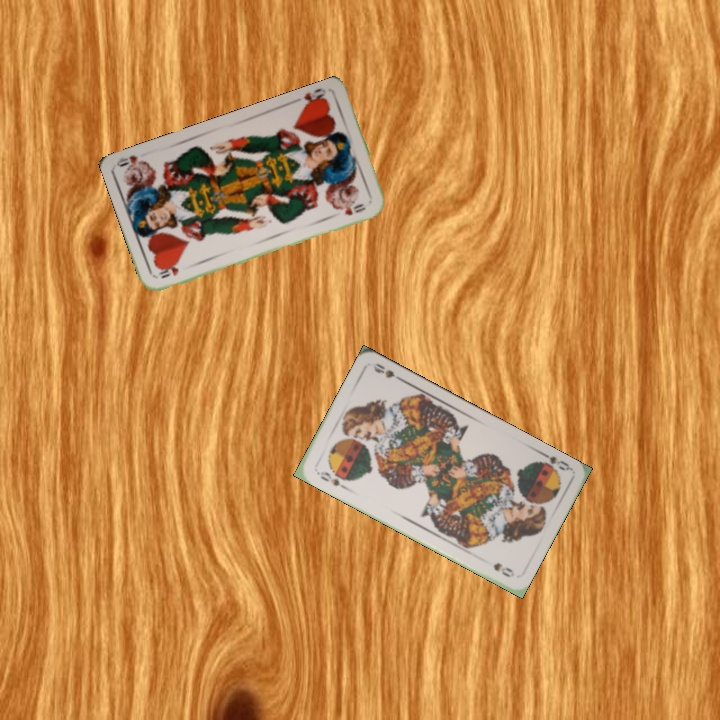HO: (300, 84, 329, 110), (154, 263, 181, 281)
SO: (532, 448, 574, 476), (313, 467, 349, 492)
